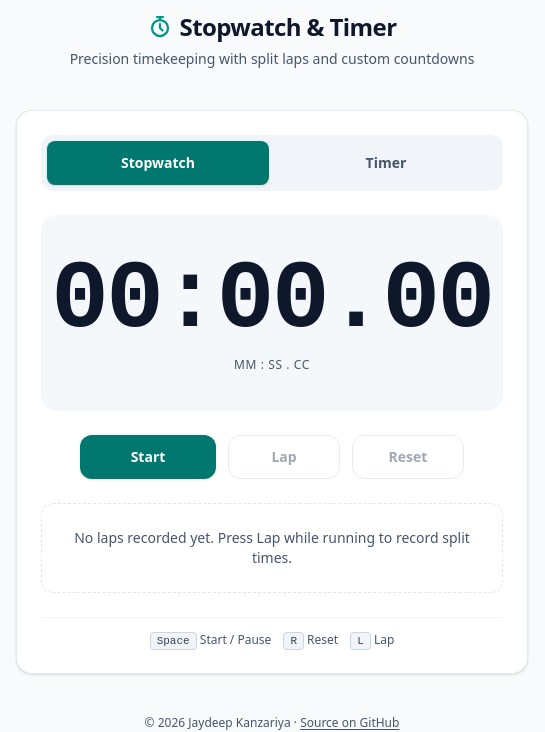
notifications › shows a disabled Blocked button when permission was denied
The width and height of the screenshot is (545, 732).
Click the tab "Timer". click: (386, 163)
box: [275,141,497,185]
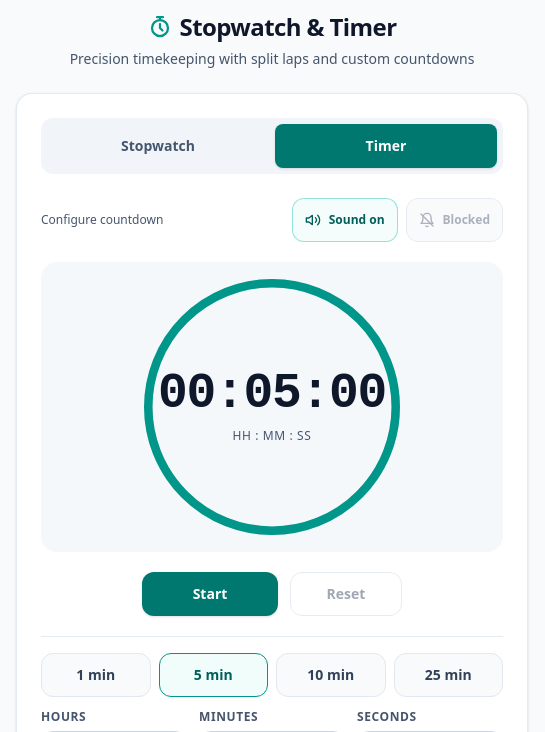
Check: the button "Blocked" is disabled, box [406,198,503,242]
